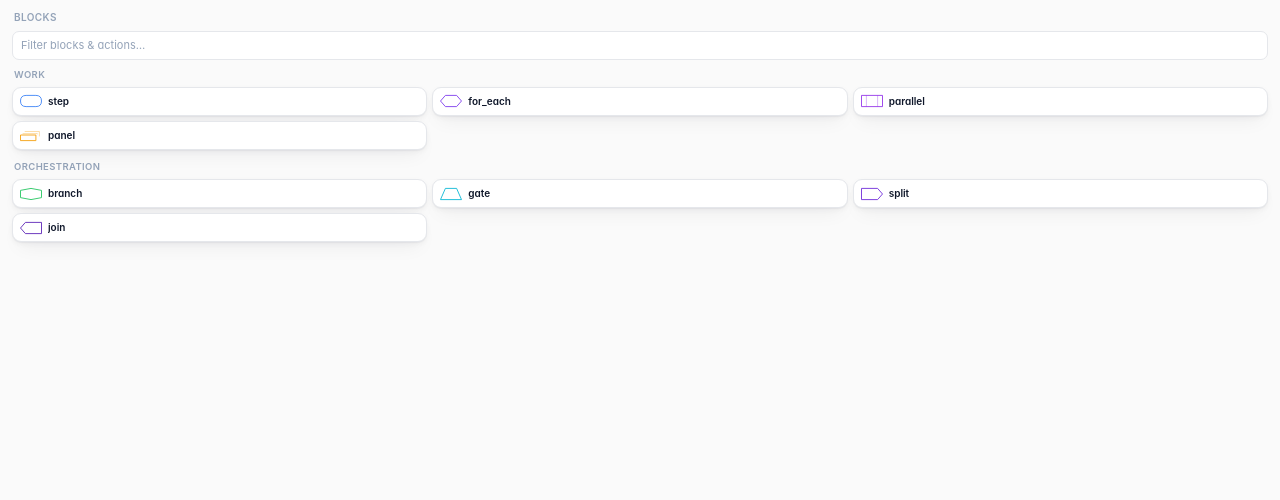
NodePalette › variant="rail" (Task 1: inspector-rail dock) › the gate block has NO required fields (approval: is entirely optional per workflow.rs) — no `*` list renders
The image size is (1280, 500).
Click the button with aria-label "Add gate node". click: (451, 194)
box: [432, 179, 848, 208]
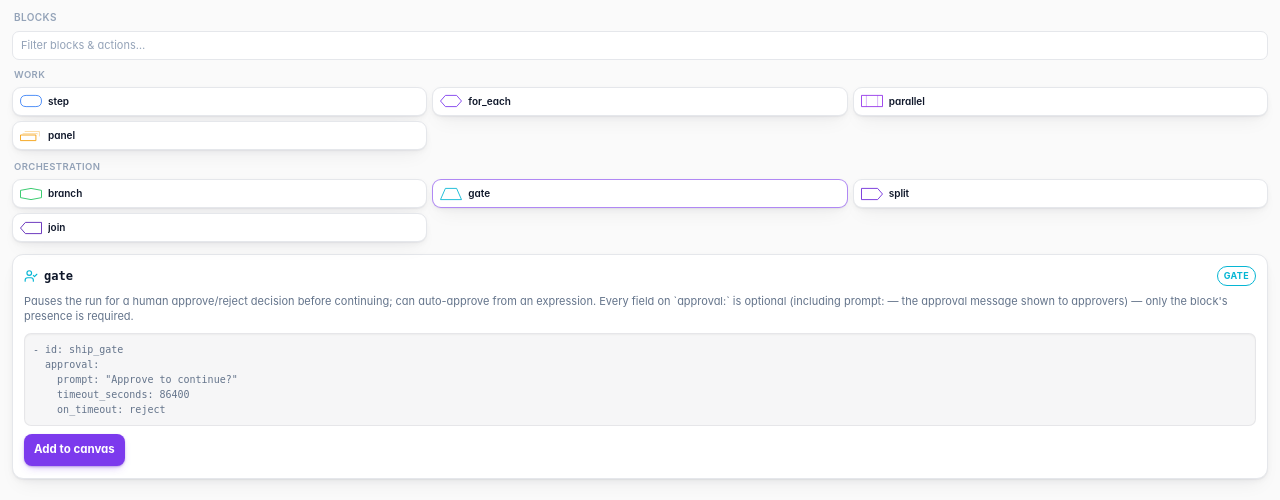
Result: the element named "gate details" shows "optional" at [24, 294, 1228, 323]
